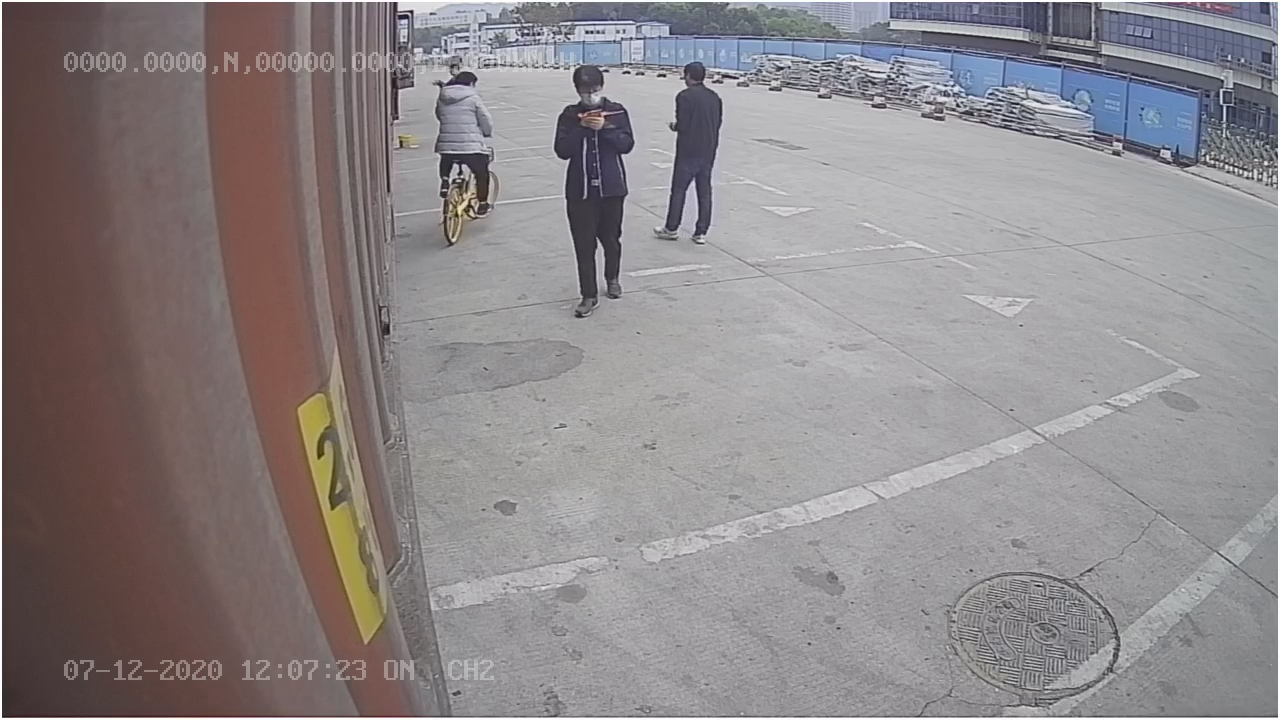person: (550, 60, 636, 316)
